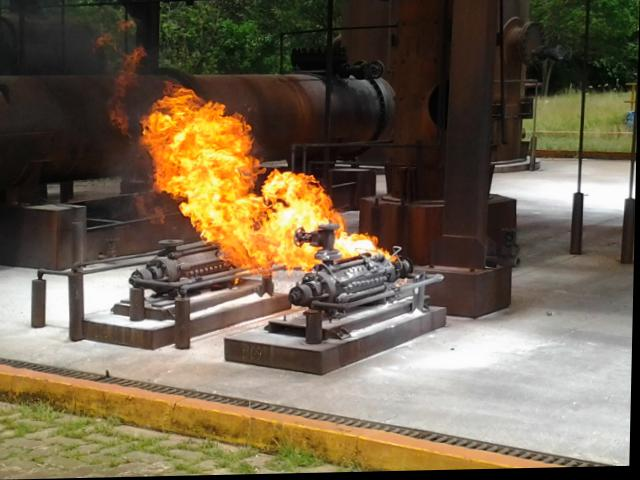fire: (100, 29, 400, 285)
